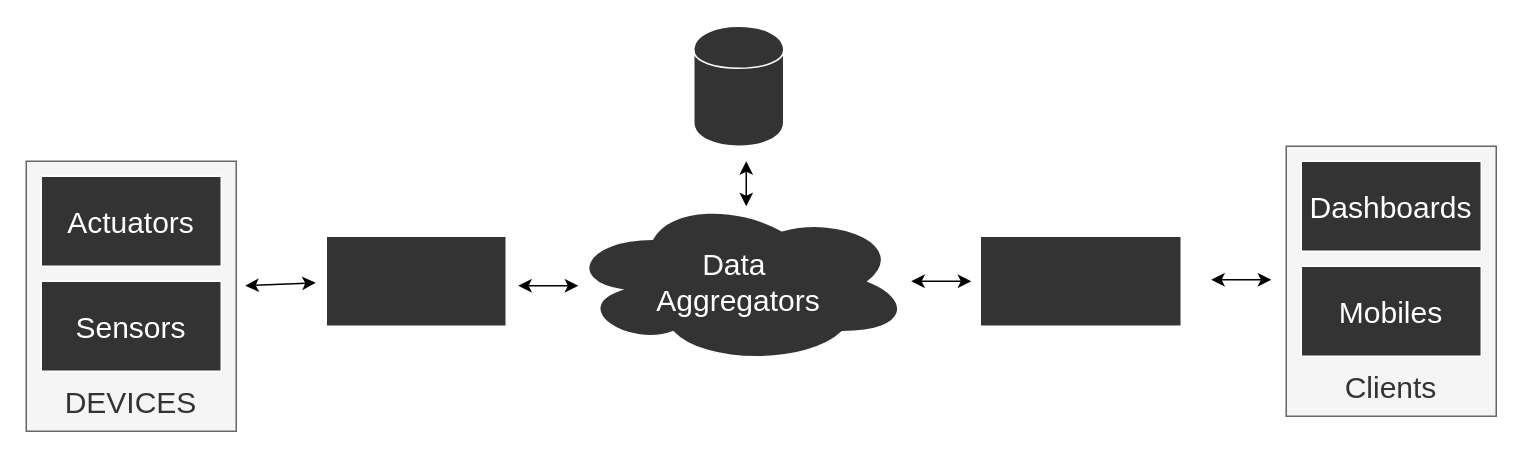
Some shapes in this 1523 by 458 pixel diagram are drawn without their labels. Here are the shapes that lost their labels. From the top down, the centre of each, then its label:
At point 415,280: "Gateway".
At point 1080,280: "Intellegence".
